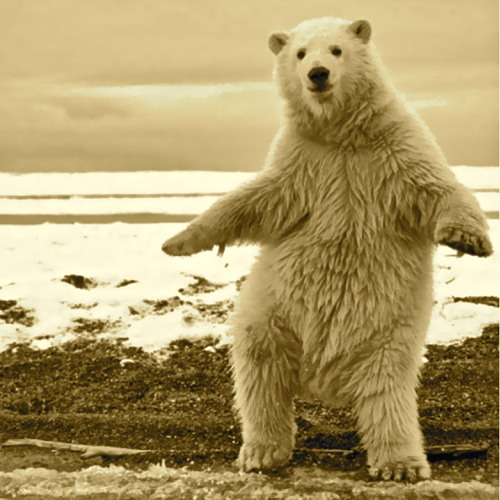Polar Bear: (154, 7, 499, 438)
